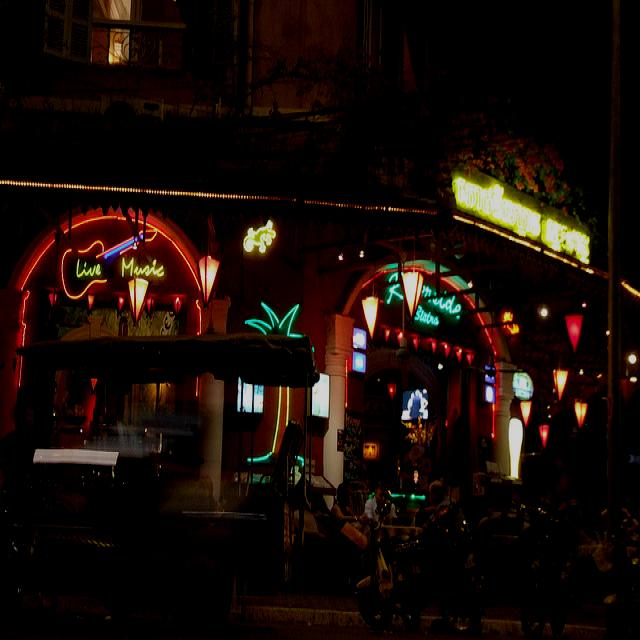Motorbike: (419, 475, 490, 640), (511, 489, 580, 640), (354, 502, 420, 640)
